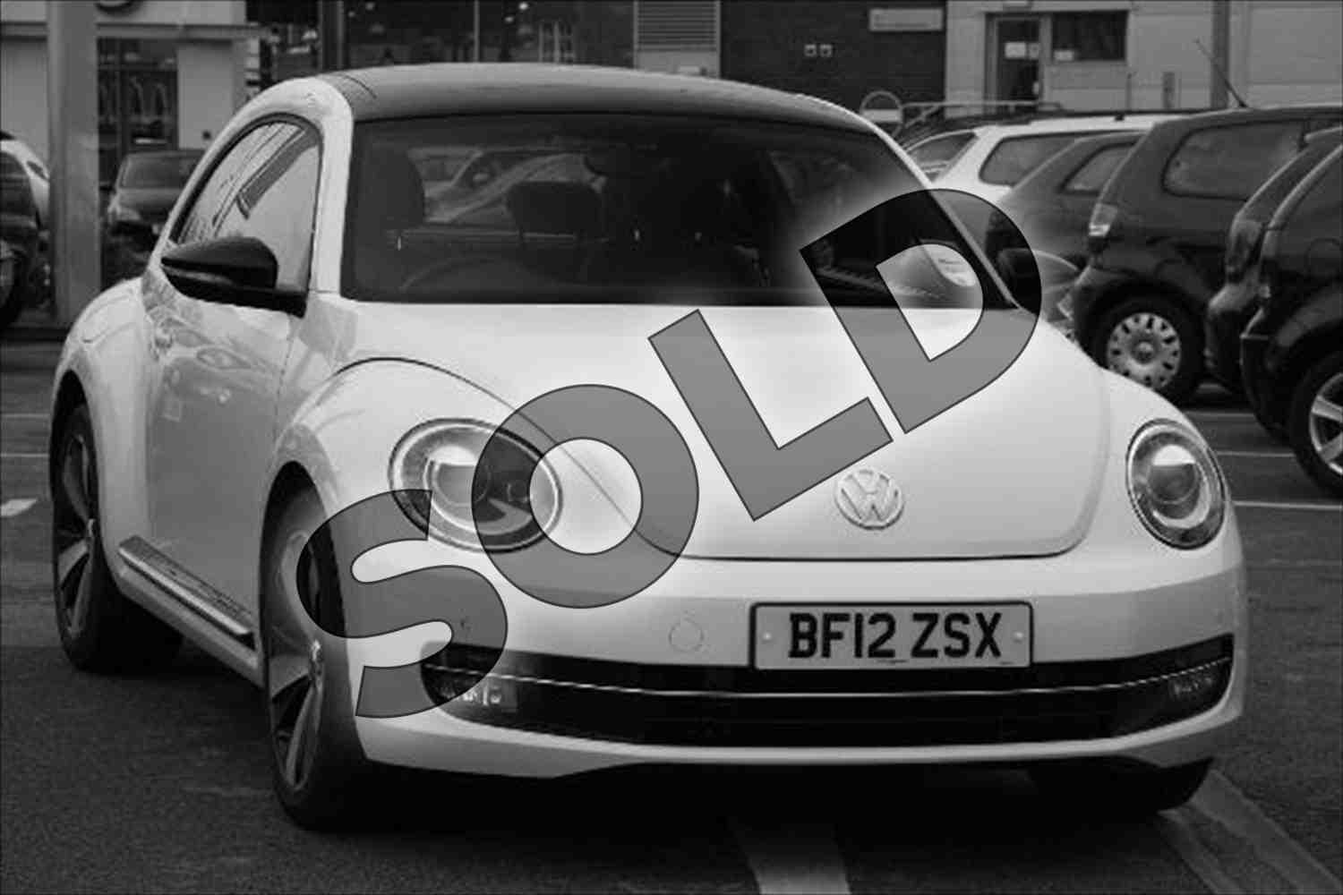car: (48, 66, 1245, 836)
